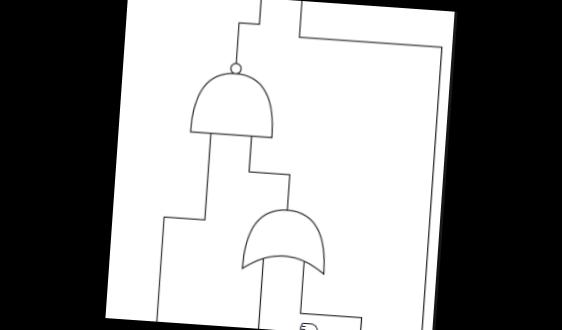nand: (181, 58, 282, 144)
or: (235, 200, 333, 275)
